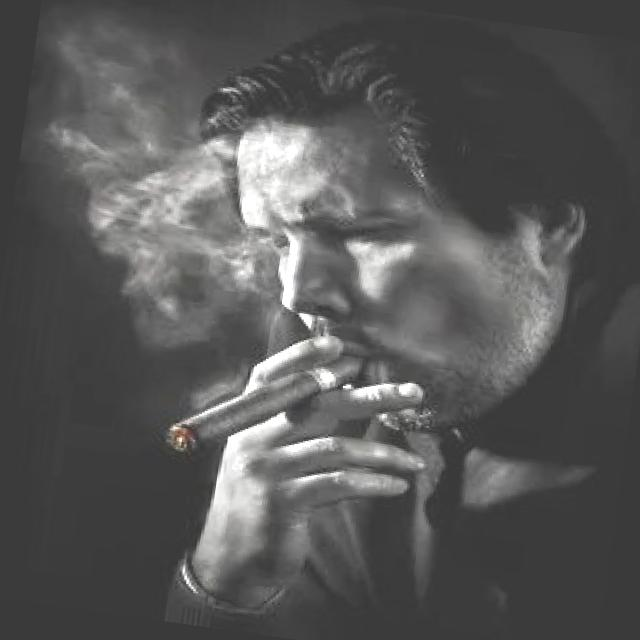smoke: (152, 323, 374, 473)
